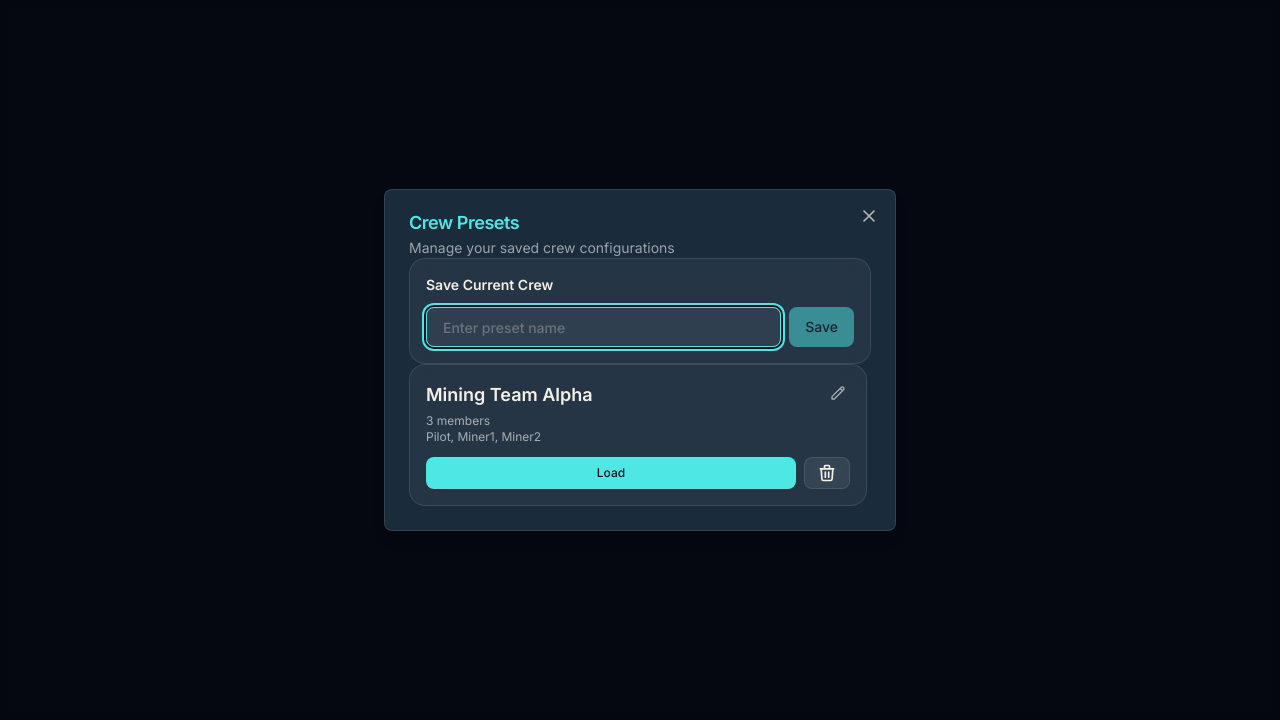
Test: CrewPresetManager - Delete Preset › should delete preset when confirmation is accepted
The width and height of the screenshot is (1280, 720).
# Click delete button
Click the button named "delete preset": coordinates (827, 473) [804,457,850,489]
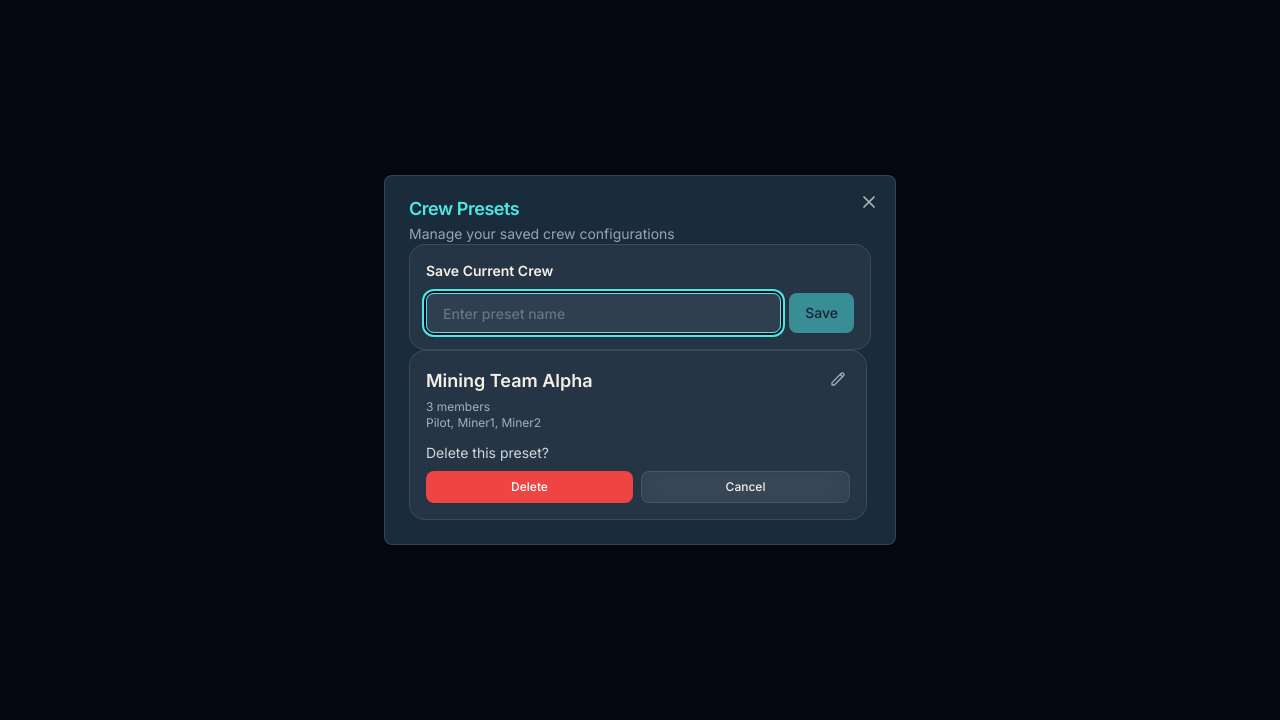
# Confirm deletion
Click the button "Delete": coordinates (530, 487) [426,471,633,503]
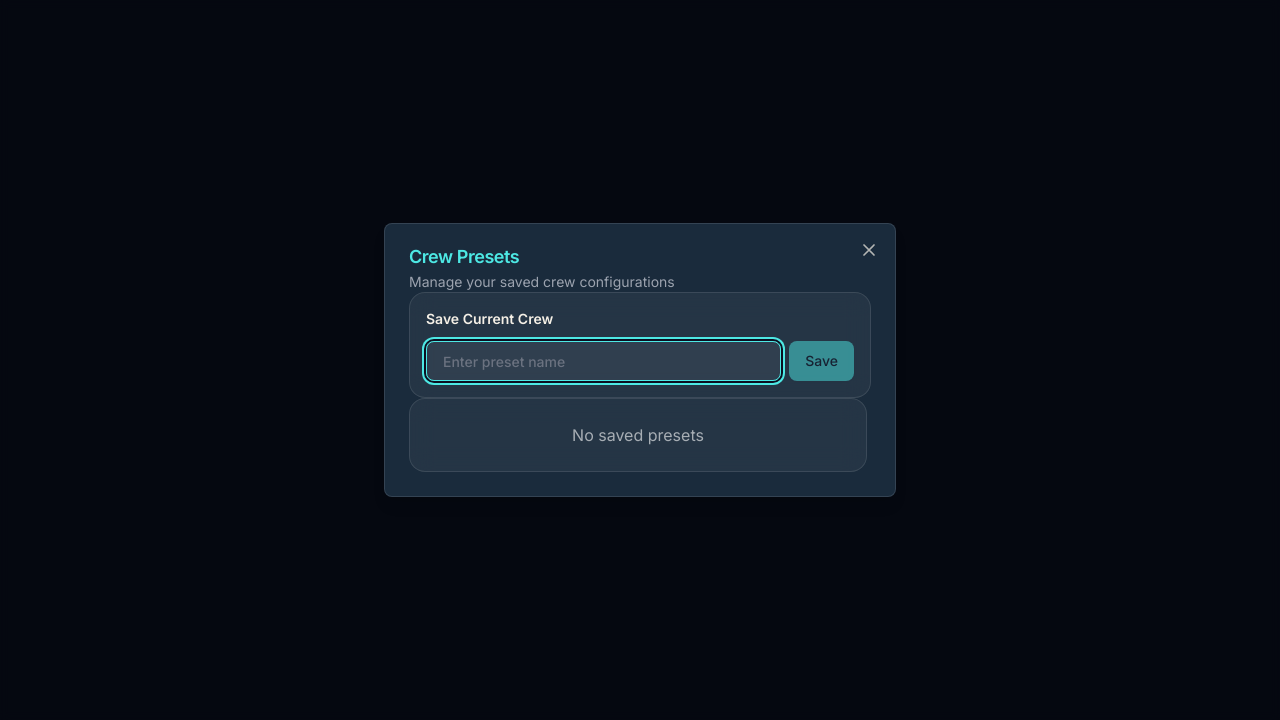
expect the heading "Mining Team Alpha" is gone: met
expect the text "No saved presets" is shown: met, box [572,425,704,445]
